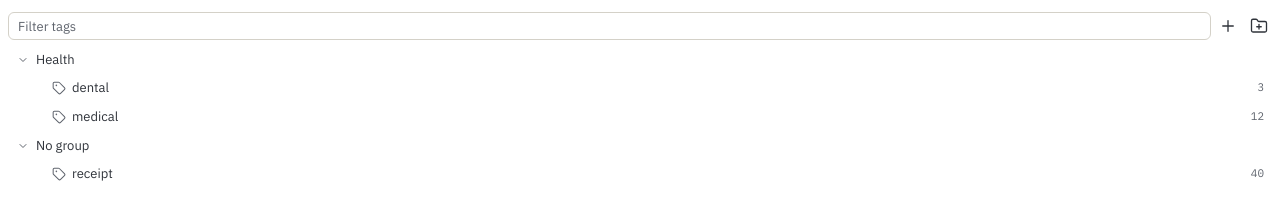
it: TagTree › the filter box asks the server and says when nothing matches
The image size is (1280, 198).
Expected: the text "medical" is shown, left=72, top=108, right=118, bottom=125
Step 1. Type "zz" into the search field labelled "Filter tags" → point(609, 26), box left=8, top=12, right=1211, bottom=40
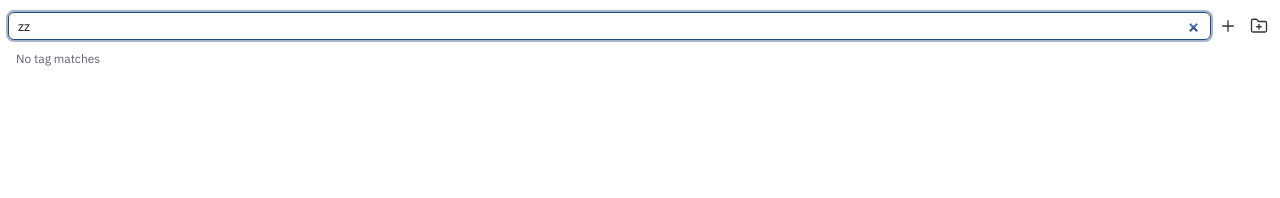
Expected: the list item "No tag matches" is shown, left=16, top=51, right=100, bottom=66
Expected: the text "Health" is gone
